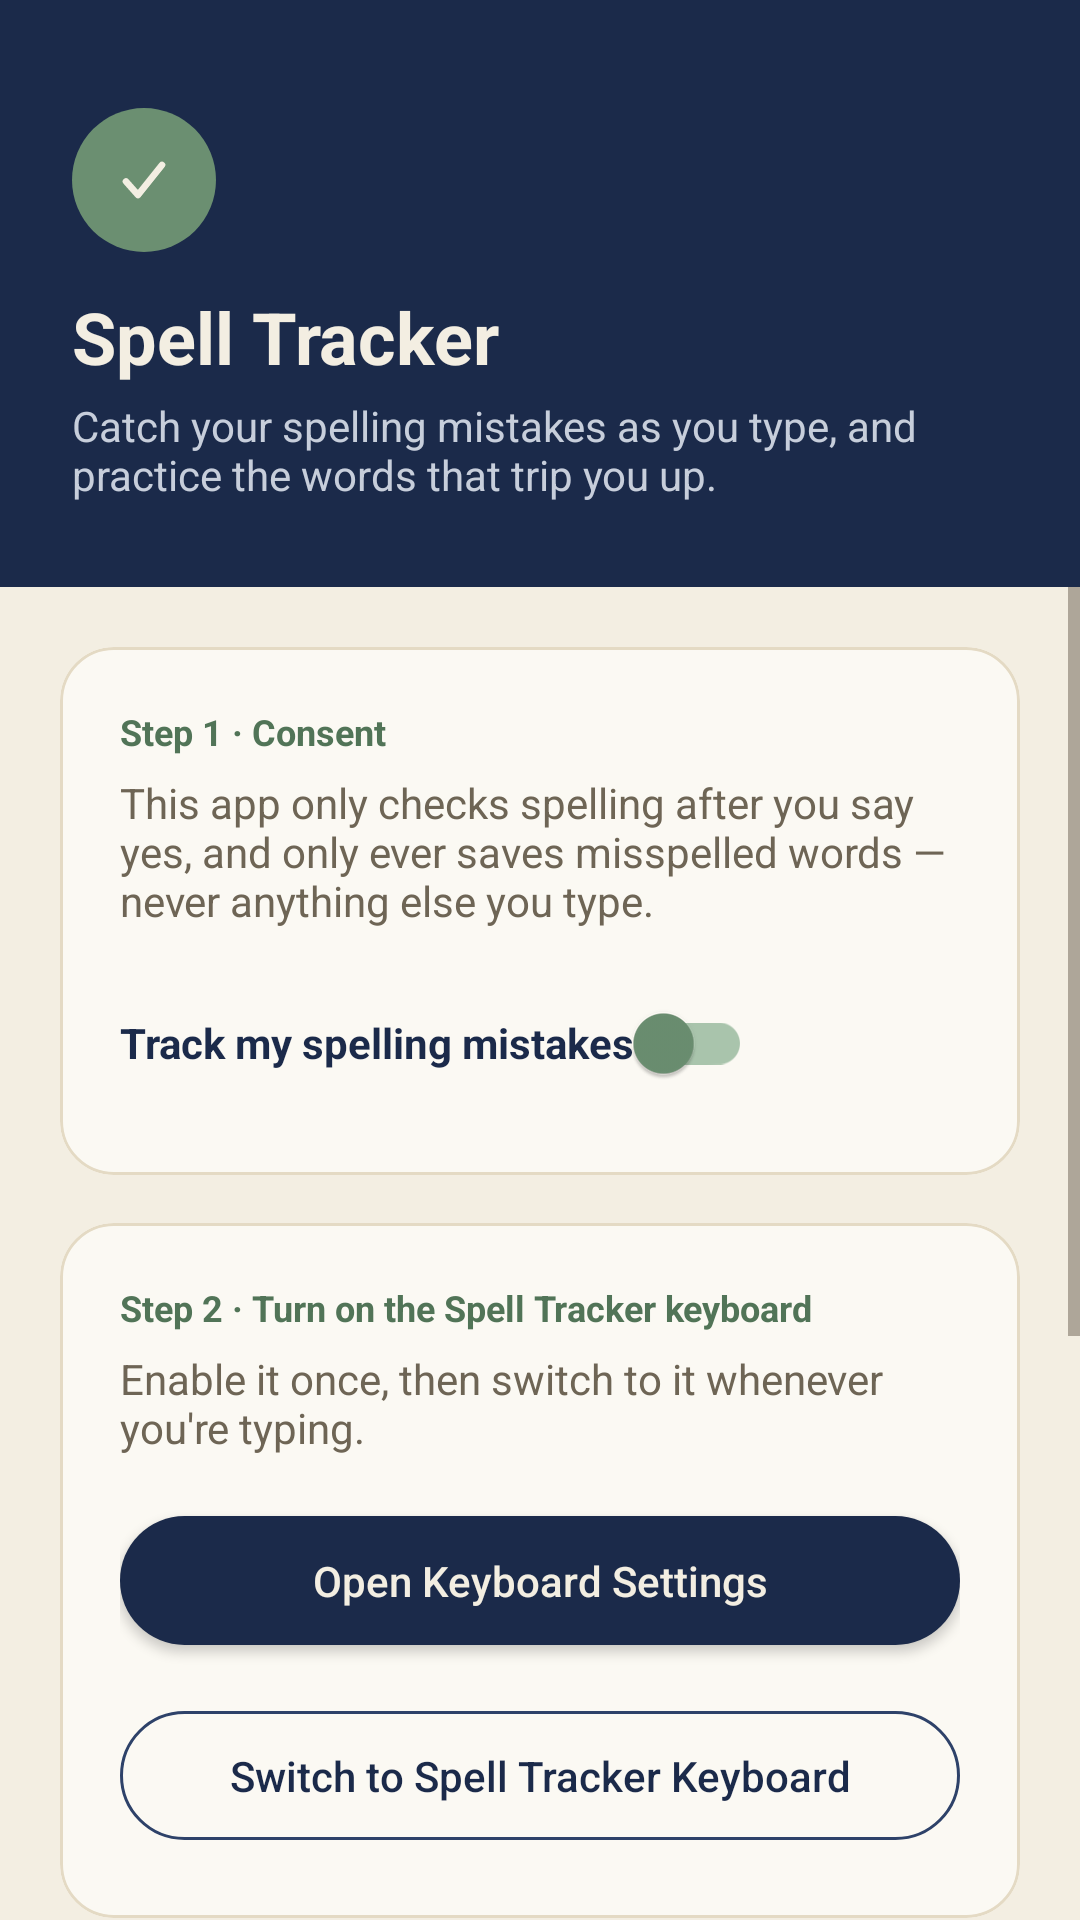

Point at icon controls on the screen. Image size 1080w x 1920h, points as point (x, y).
check: point (144, 180)
